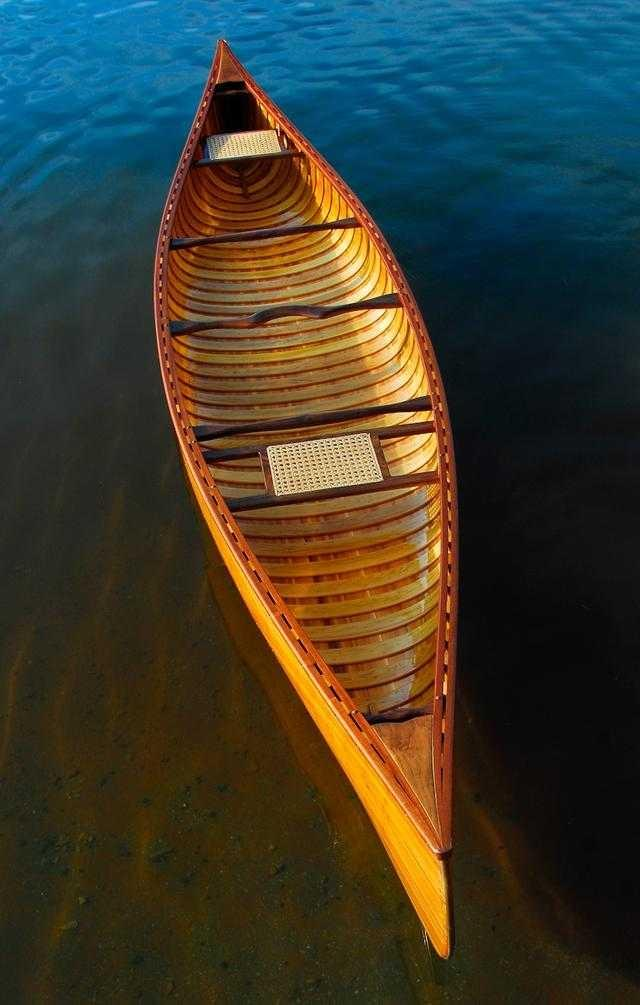kayak: (152, 28, 467, 987)
